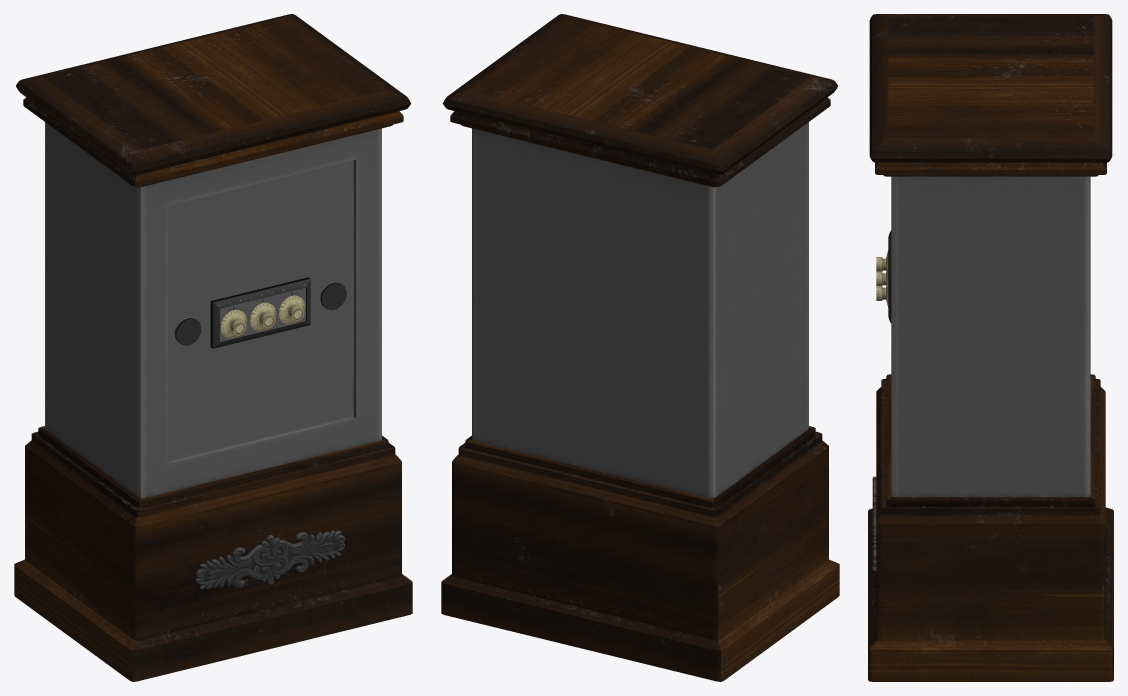
The model's file is Safe_1.obj.
3 renders of one model, left to right at view 1: azimuth 30°, elevation 25°; view 2: azimuth 150°, elevation 25°; view 3: azimuth 270°, elevation 25°, orthographic. The views are drawn at different scales.
Parts seen in each view (by area): view 1: Safe, Door, Lock2, Lock1, Lock; view 2: Safe; view 3: Safe.
Boxes of the visible parts, x1,y1,x2,y2 form: Safe: [14, 14, 412, 681]; Door: [168, 160, 353, 461]; Lock2: [278, 295, 305, 324]; Lock1: [249, 302, 276, 331]; Lock: [220, 310, 247, 338]; Safe: [441, 14, 839, 681]; Safe: [868, 14, 1113, 681].
Bounding box in the file's own units: 71.93 × 127 × 52.93.
1 material, 1 textured.
